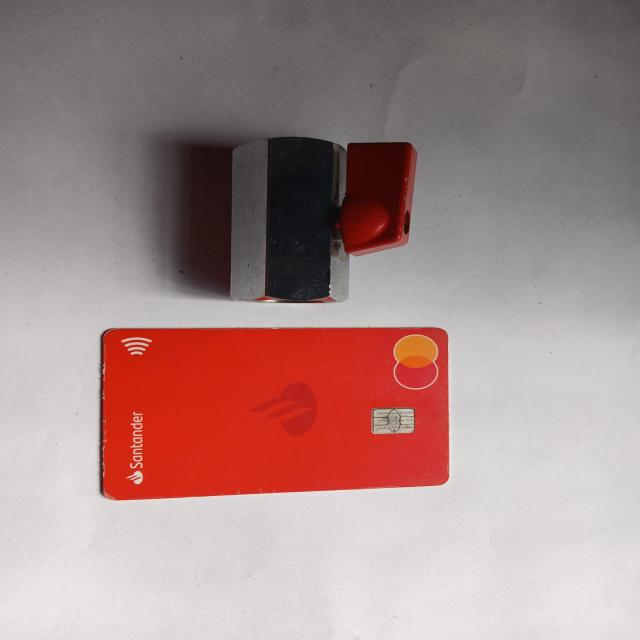cartao: (100, 329, 448, 501)
rosca_interna: (229, 135, 418, 304)
